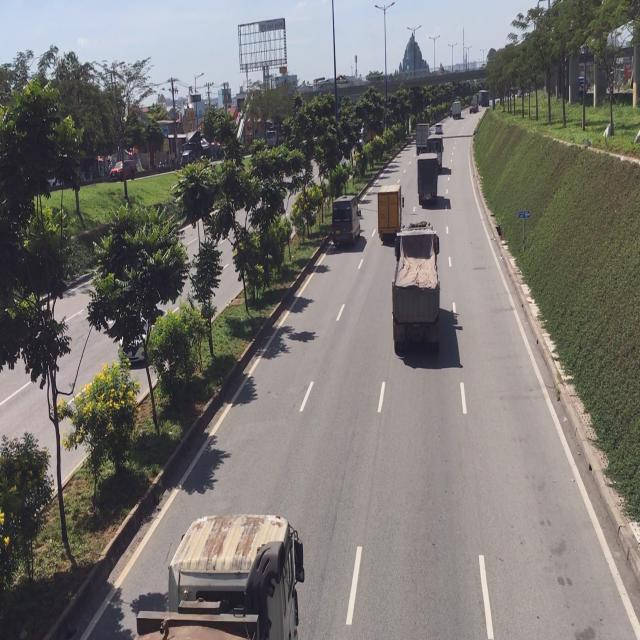bus: (331, 192, 362, 249)
truck: (134, 515, 310, 640), (392, 221, 442, 363), (378, 183, 401, 239), (417, 152, 438, 207), (428, 132, 443, 160), (416, 124, 428, 156)
